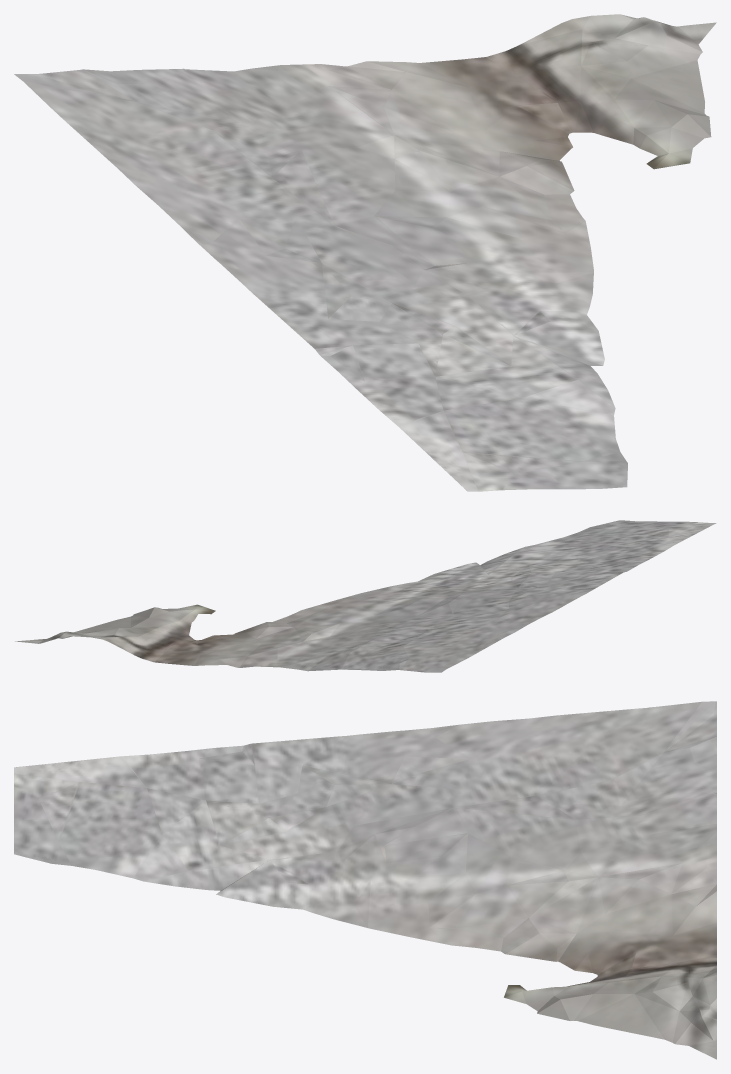
The picture shows the model from 3 angles, top to bottom: view 1: azimuth 30°, elevation 25°; view 2: azimuth 150°, elevation 25°; view 3: azimuth 270°, elevation 25°; orthographic projection. The views are drawn at different scales.
Bounding box in the file's own units: 1.5 × 0.2441 × 1.67.
2 materials, 2 textured.
